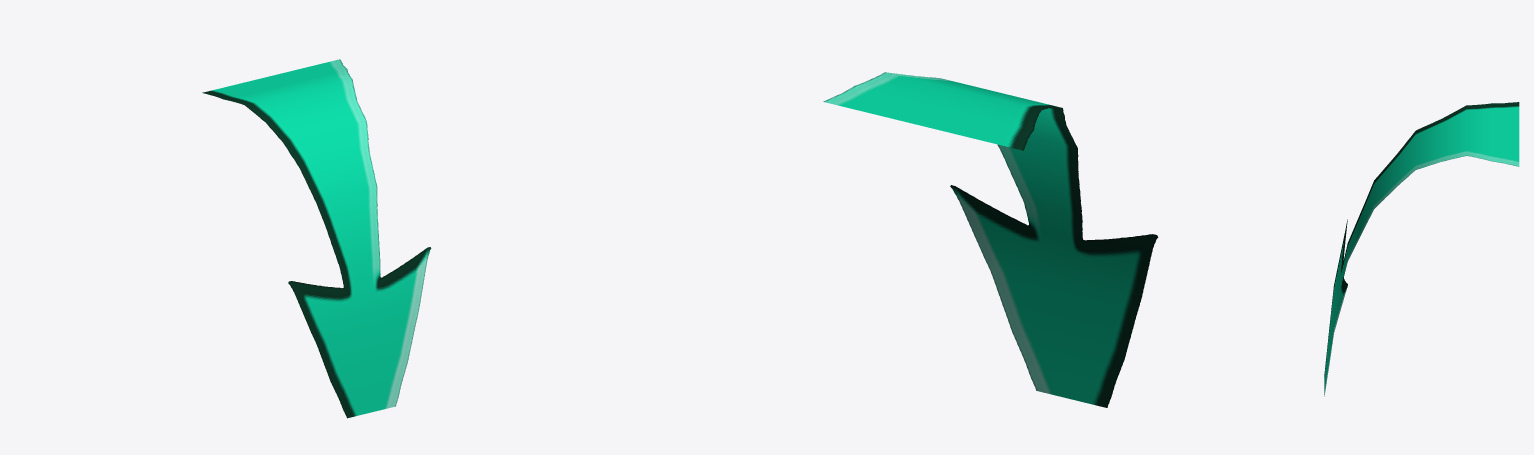
Rendered from zhibiao.FBX.
3 renders of one model, left to right at view 1: azimuth 30°, elevation 25°; view 2: azimuth 150°, elevation 25°; view 3: azimuth 270°, elevation 25°, orthographic. The views are drawn at different scales.
Parts seen in each view (by area): view 1: tixing; view 2: tixing; view 3: tixing.
Part boxes in pixels (bbox=[...]): tixing: bbox=[202, 59, 431, 418]; tixing: bbox=[823, 72, 1158, 407]; tixing: bbox=[1324, 102, 1519, 396].
Size of the model in its own units: 48.19 by 23.98 by 16.57.
